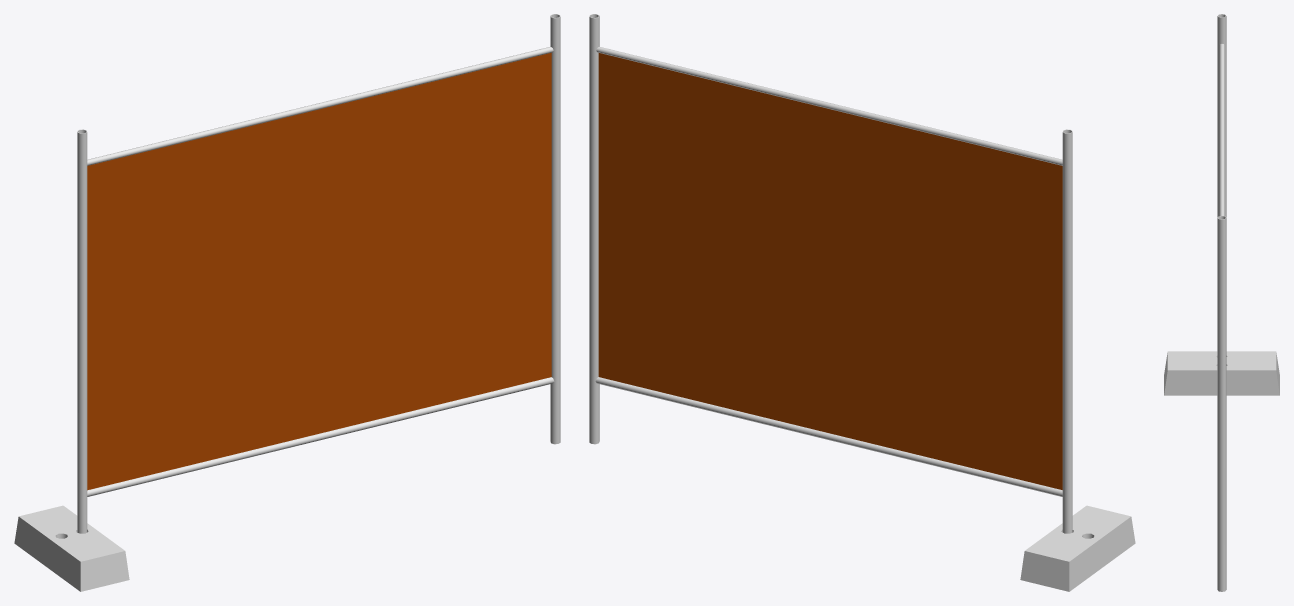
File: ConstructionFence.fbx
The picture shows the model from 3 angles, left to right: view 1: azimuth 30°, elevation 25°; view 2: azimuth 150°, elevation 25°; view 3: azimuth 270°, elevation 25°; orthographic projection. The views are drawn at different scales.
Visible parts, largest first — view 1: Plane.001; view 2: Plane.001; view 3: Plane.001.
Part boxes in pixels (x1,y1,x2,y2): Plane.001: (14,14,560,591); Plane.001: (589,14,1135,591); Plane.001: (1164,14,1279,591).
Size of the model in its own units: 2.5 by 1.99 by 0.5587.
